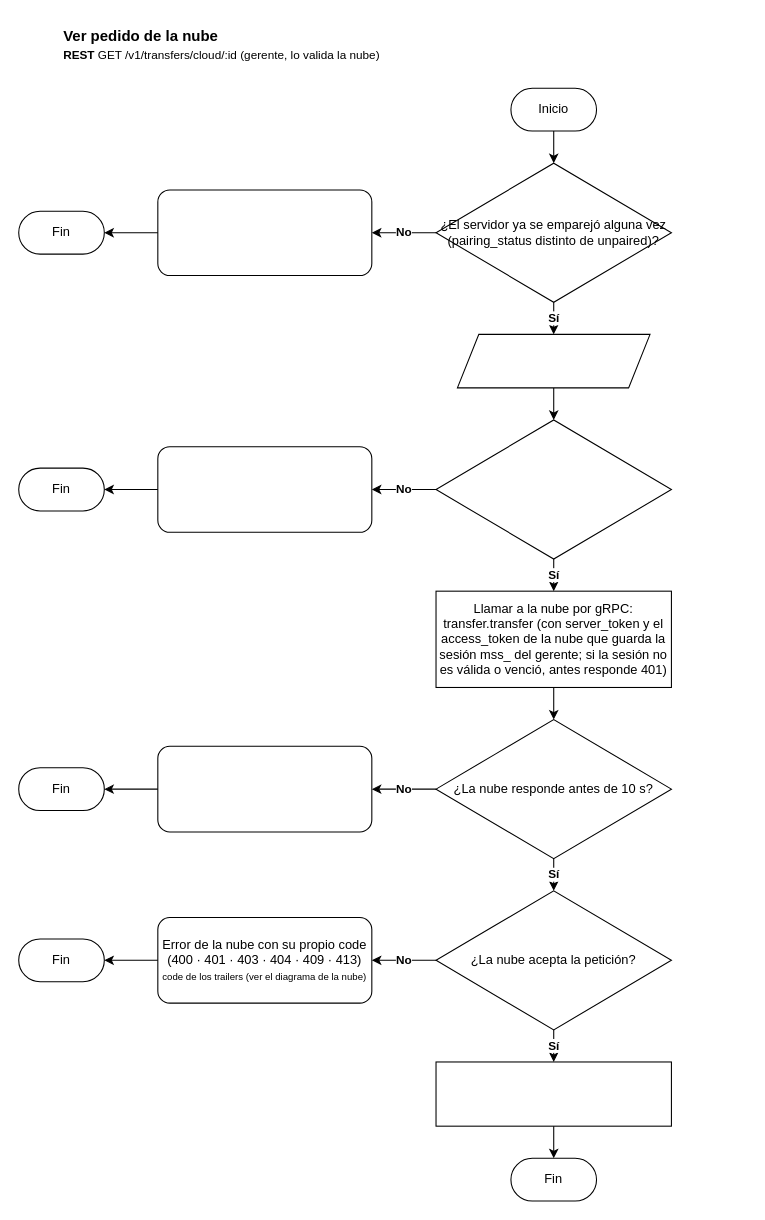
Some shapes in this 765 by 1220 pixel diagram are drawn without their labels. Here are the shapes that lost their labels. From the top down, the box of each, then its label:
(157, 189, 372, 276): Servidor sin emparejar (409) ERROR_SERVER_NOT_PAIRED
(456, 333, 650, 388): Recibir datos
(157, 446, 372, 532): Datos inválidos (400) ERROR_BAD_REQUEST
(435, 419, 671, 559): ¿Los datos son válidos?
(157, 745, 372, 832): La nube no responde (503) ERROR_CLOUD_UNAVAILABLE · ERROR_SERVER_UNLINKED
(435, 1061, 671, 1126): Responder 200 con el mensaje TRANSFER_RETRIEVED
